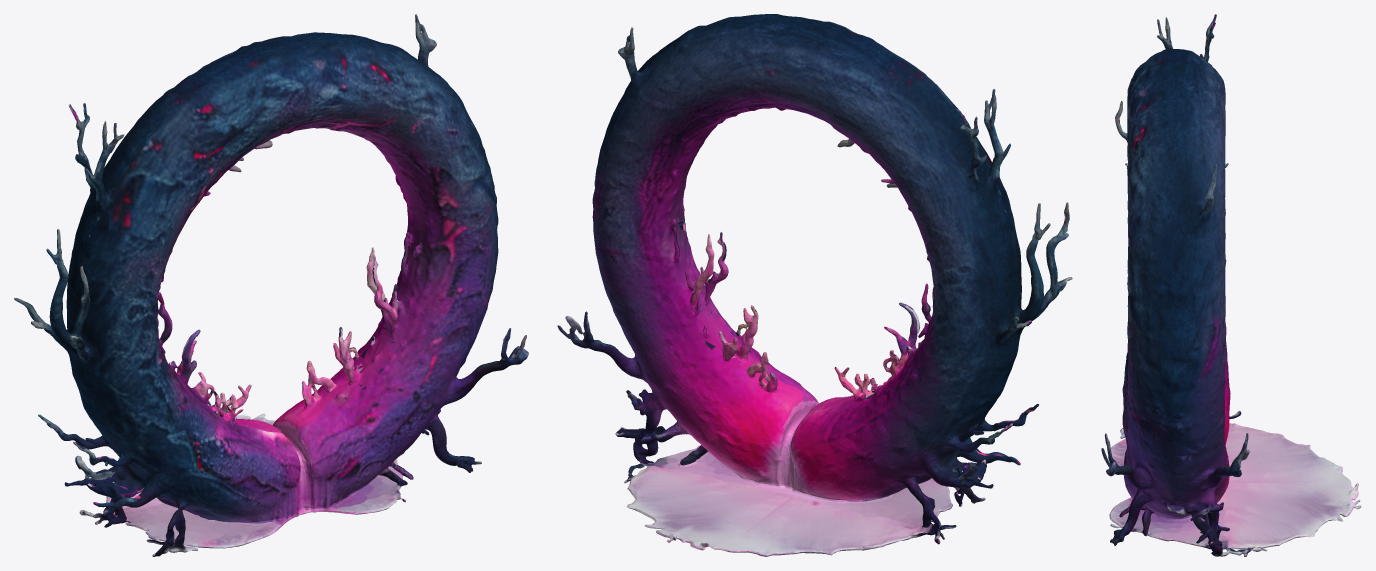
The model's file is weathered-monolith-pillar-generated-2026-04-19T05-03-21-848Z.glb.
The picture shows the model from 3 angles, left to right: view 1: azimuth 30°, elevation 25°; view 2: azimuth 150°, elevation 25°; view 3: azimuth 270°, elevation 25°; orthographic projection. The views are drawn at different scales.
Visible parts, largest first — view 1: temp_mesh.ply; view 2: temp_mesh.ply; view 3: temp_mesh.ply.
Part boxes in pixels (x1,y1,x2,y2): temp_mesh.ply: (14,14,528,556); temp_mesh.ply: (557,14,1072,556); temp_mesh.ply: (1101,14,1361,556).
Bounding box in the file's own units: 1.96 × 1.91 × 1.06.
1 material, 1 textured.
